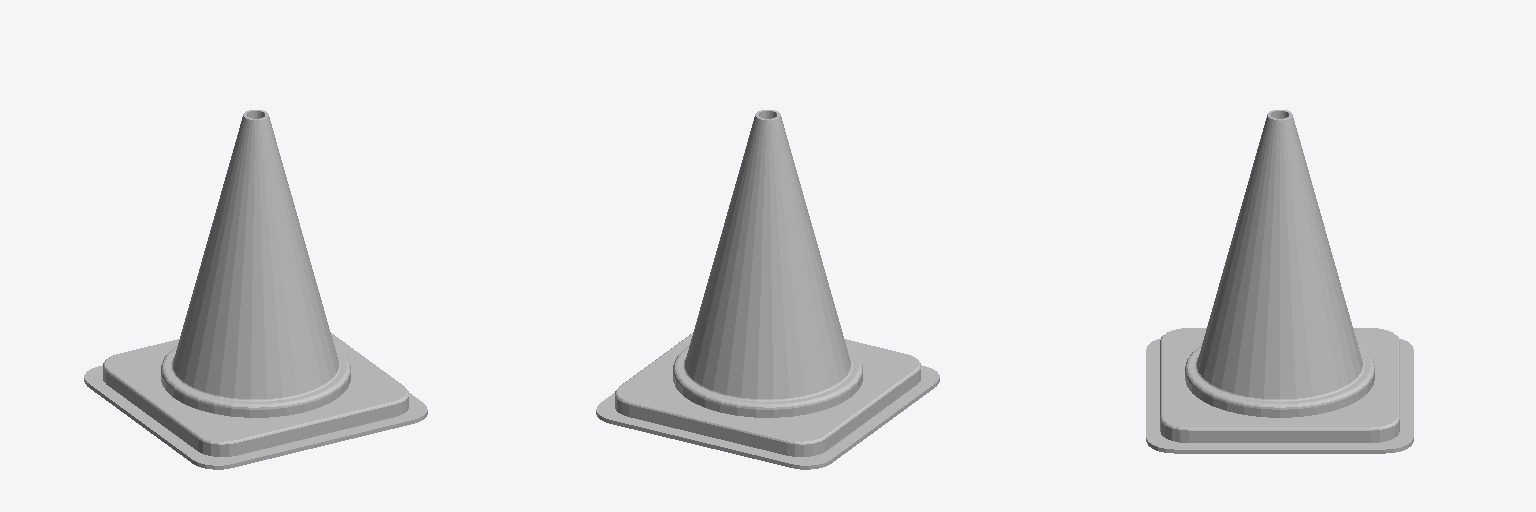
File: Color cone.obj
3 views of the same model, side by side, from view 1: azimuth 30°, elevation 25°; view 2: azimuth 150°, elevation 25°; view 3: azimuth 270°, elevation 25° (orthographic).
Parts seen in each view (by area): view 1: color_cone.001_立方体.001_color_cone_tex_diffuse; view 2: color_cone.001_立方体.001_color_cone_tex_diffuse; view 3: color_cone.001_立方体.001_color_cone_tex_diffuse.
Boxes of the visible parts, x1=… form: color_cone.001_立方体.001_color_cone_tex_diffuse: x1=84, y1=110, x2=427, y2=469; color_cone.001_立方体.001_color_cone_tex_diffuse: x1=596, y1=110, x2=939, y2=469; color_cone.001_立方体.001_color_cone_tex_diffuse: x1=1146, y1=110, x2=1413, y2=453.
Bounding box in the file's own units: 4.8 × 5.59 × 4.8.